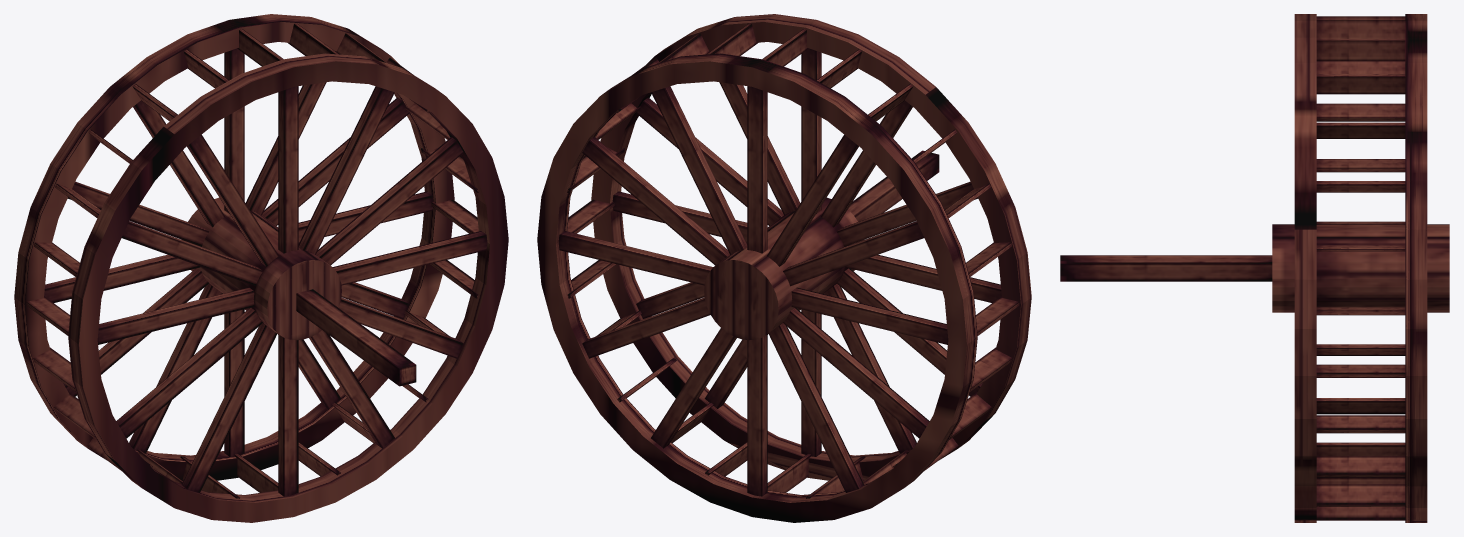
The model's file is watermill.glb.
3 renders of one model, left to right at view 1: azimuth 30°, elevation 25°; view 2: azimuth 150°, elevation 25°; view 3: azimuth 270°, elevation 25°, orthographic. The views are drawn at different scales.
Visible parts, largest first — view 1: Cylinder.001, Cylinder.002, Cylinder.003, bar.049, bar.007, bar.001, bar.002, bar.008, bar, bar.009, bar.006, bar.003 (+28 smaller); view 2: Cylinder.002, Cylinder.001, Cylinder.003, bar.016, bar.022, bar.021, bar.015, bar.023, bar.014, bar.017, bar.020, bar.012 (+28 smaller); view 3: Cylinder.001, Cylinder.002, Cylinder.003, bar.049, bar.040, bar.030, bar.039, bar.032, bar.029, bar.025, bar.038, bar.033 (+11 smaller).
Boxes of the visible parts, x1,y1,x2,y2 form: Cylinder.001: [68, 53, 508, 522]; Cylinder.002: [14, 14, 454, 480]; Cylinder.003: [182, 197, 341, 340]; bar.049: [296, 289, 416, 386]; bar.007: [182, 323, 277, 492]; bar.001: [298, 86, 394, 254]; bar.002: [316, 137, 463, 265]; bar.008: [116, 308, 262, 438]; bar: [278, 86, 298, 253]; bar.009: [97, 287, 254, 344]; bar.006: [278, 334, 298, 496]; bar.003: [332, 231, 487, 285]; Cylinder.002: [537, 53, 977, 522]; Cylinder.001: [591, 14, 1031, 480]; Cylinder.003: [704, 197, 863, 340]; bar.016: [768, 323, 863, 492]; bar.022: [651, 86, 747, 254]; bar.021: [582, 137, 729, 265]; bar.015: [783, 308, 929, 438]; bar.023: [747, 86, 767, 253]; bar.014: [791, 287, 948, 344]; bar.017: [747, 334, 767, 496]; bar.020: [558, 231, 713, 285]; bar.012: [767, 134, 858, 266]; Cylinder.001: [1294, 14, 1316, 522]; Cylinder.002: [1405, 14, 1427, 522]; Cylinder.003: [1272, 224, 1449, 312]; bar.049: [1060, 255, 1272, 281]; bar.040: [1316, 484, 1405, 506]; bar.030: [1316, 39, 1405, 61]; bar.039: [1316, 456, 1405, 477]; bar.032: [1316, 74, 1405, 94]; bar.029: [1316, 19, 1405, 38]; bar.025: [1316, 103, 1405, 121]; bar.038: [1316, 415, 1405, 433]; bar.033: [1316, 122, 1405, 138].
Size of the model in its own units: 4.6 by 4.6 by 3.51.
Materials: 53 (53 with a texture image).
